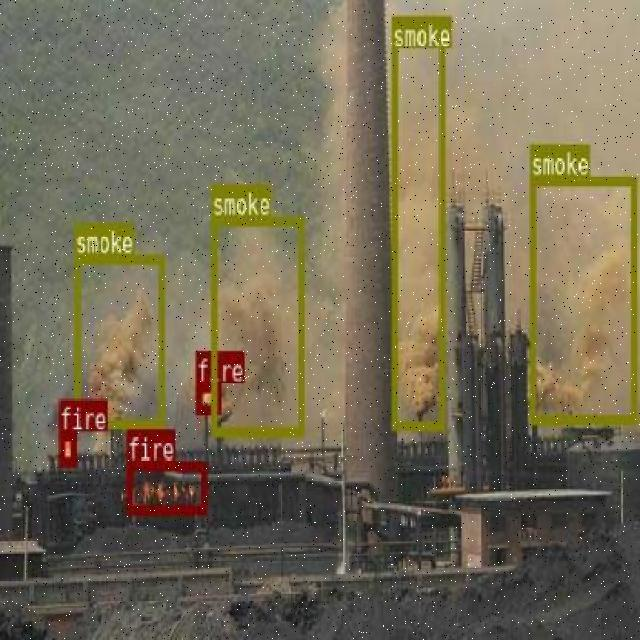Smoke: (528, 174, 636, 422), (391, 16, 443, 429), (210, 216, 302, 433), (74, 286, 163, 395)
